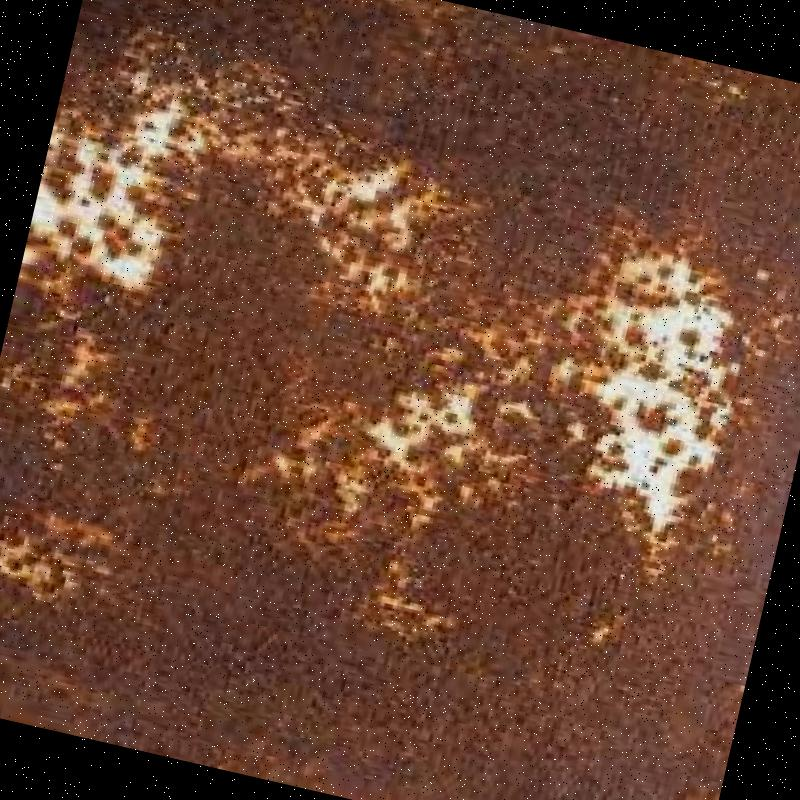corrosion: (6, 111, 800, 800)
